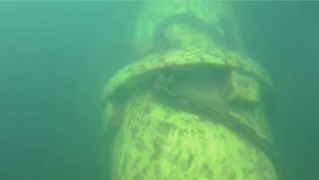2: (152, 12, 239, 51)
pipe: (98, 1, 279, 179)
